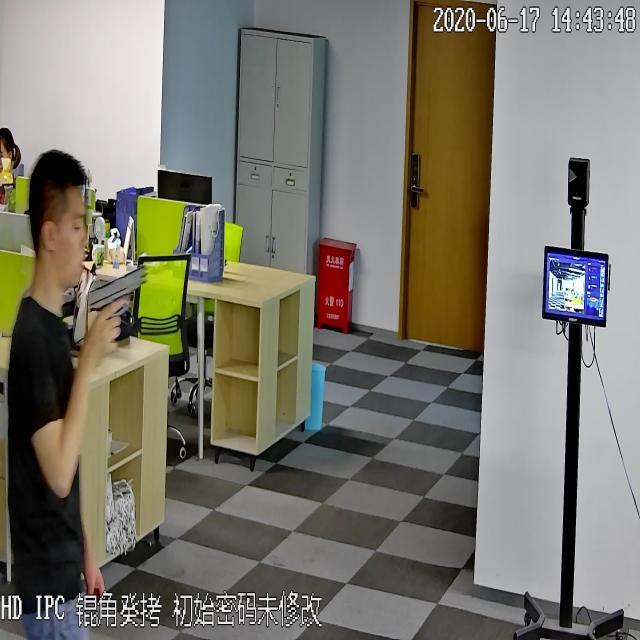gun-knife-thesis - v11 Yolov5 augmented: (85, 261, 149, 359)
